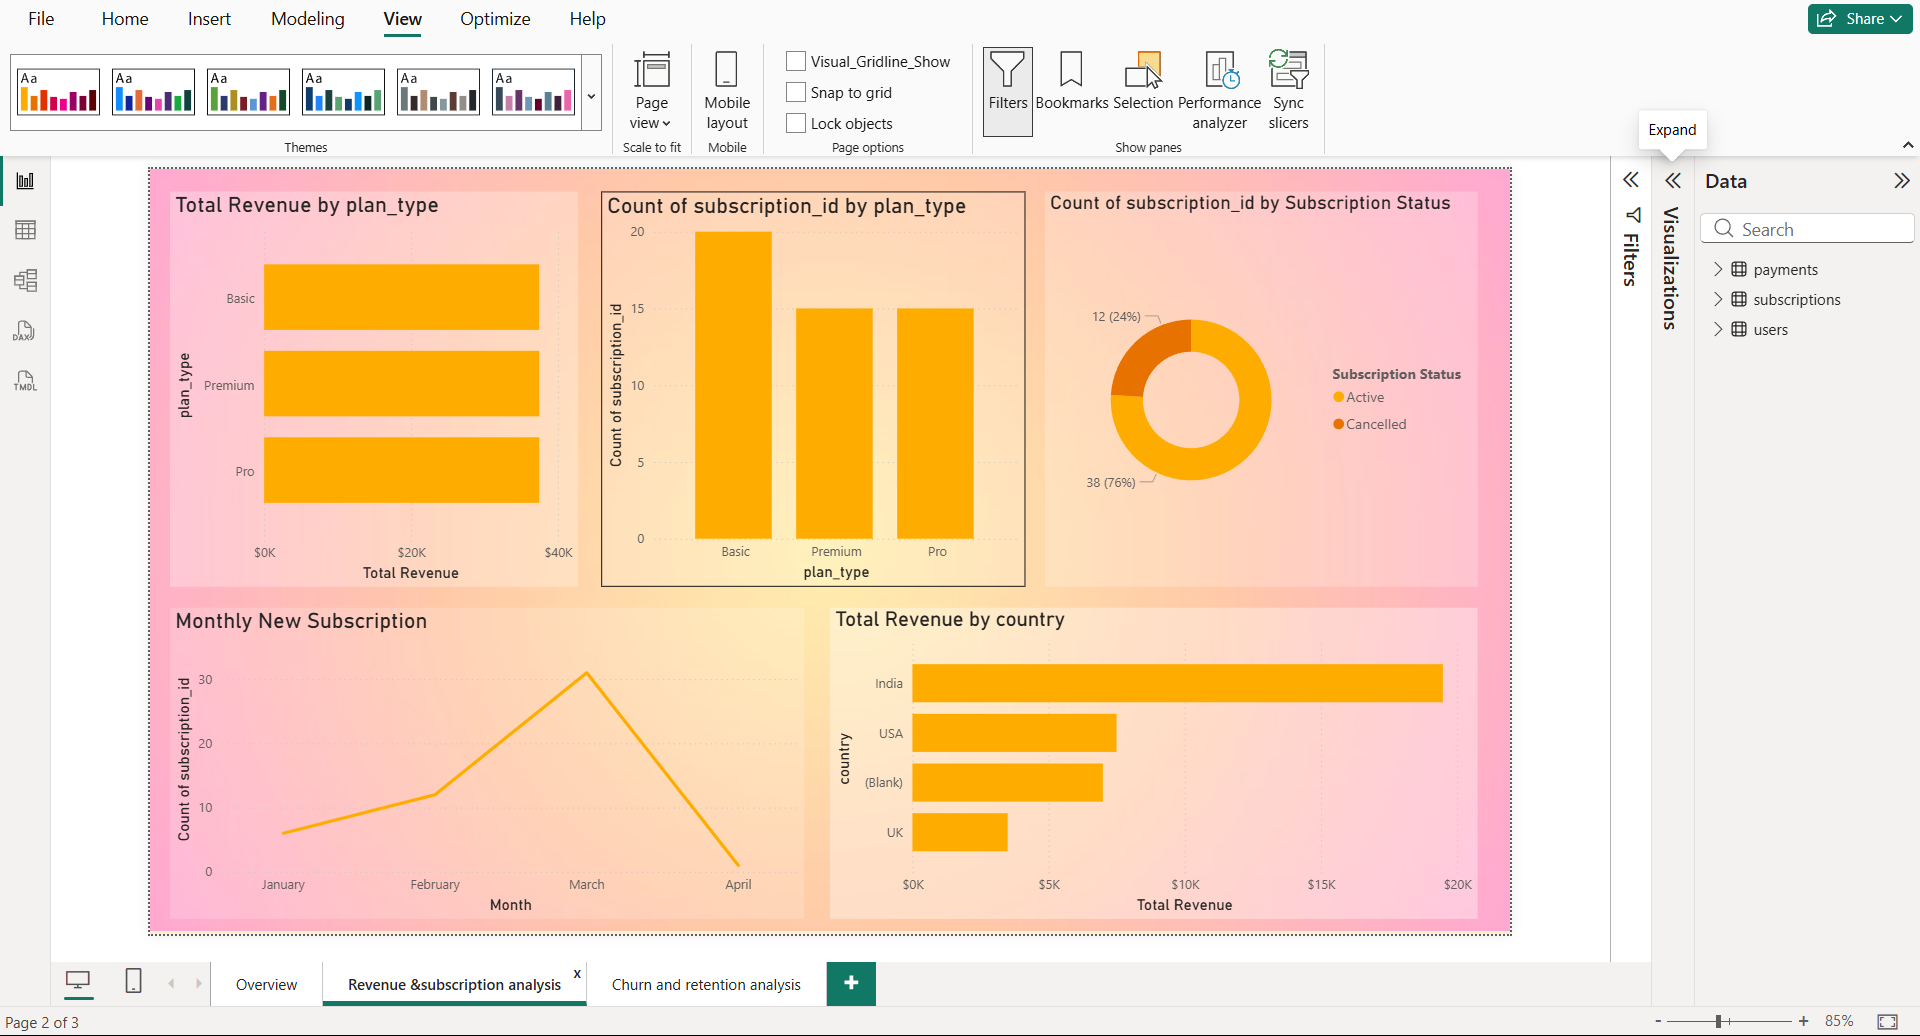

The dashboard page shown, as its layout file describes it:
{"tool":"powerbi","page":{"name":"Revenue &subscription analysis","canvas":[1280,720],"ordinal":1},"visuals":[{"type":"clusteredBarChart","fields":{"Y":["payments.Total Revenue"],"Category":["subscriptions.plan_type"]},"box":[18.4,20.8,384.2,372],"z":0},{"type":"clusteredColumnChart","fields":{"Category":["subscriptions.plan_type"],"Y":["CountNonNull(subscriptions.subscription_id)"]},"box":[424.6,20.8,398.9,372],"z":1000},{"type":"clusteredBarChart","fields":{"Category":["users.country"],"Y":["payments.Total Revenue"]},"box":[640,412.4,609.4,292.5],"z":2000},{"type":"donutChart","fields":{"Y":["CountNonNull(subscriptions.subscription_id)"],"Category":["subscriptions.Subscription Status"]},"box":[841.9,20.8,407.5,372],"z":3000},{"type":"lineChart","title":"Monthly New Subscription","fields":{"Y":["CountNonNull(subscriptions.subscription_id)"],"Category":["subscriptions.start_date.Variation.Date Hierarchy.Month"]},"box":[18.4,412.4,597.2,292.5],"z":4000}]}

Visuals, with their boxes on the page's 1280x720 design canvas (x1, y1, x2, y2). These are canvas units, not pixel positions in the 1920x1036 screenshot, which may show the page scaled, cropped or inside an application window:
clusteredBarChart - payments.Total Revenue x subscriptions.plan_type: l=18, t=21, r=403, b=393
clusteredColumnChart - subscriptions.plan_type x CountNonNull(subscriptions.subscription_id): l=425, t=21, r=824, b=393
clusteredBarChart - users.country x payments.Total Revenue: l=640, t=412, r=1249, b=705
donutChart - CountNonNull(subscriptions.subscription_id) x subscriptions.Subscription Status: l=842, t=21, r=1249, b=393
"Monthly New Subscription" lineChart: l=18, t=412, r=616, b=705
